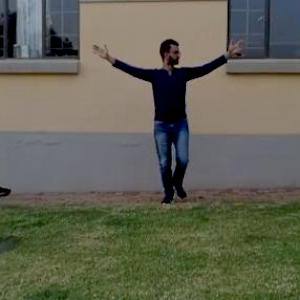takeoff: (103, 25, 268, 212)
